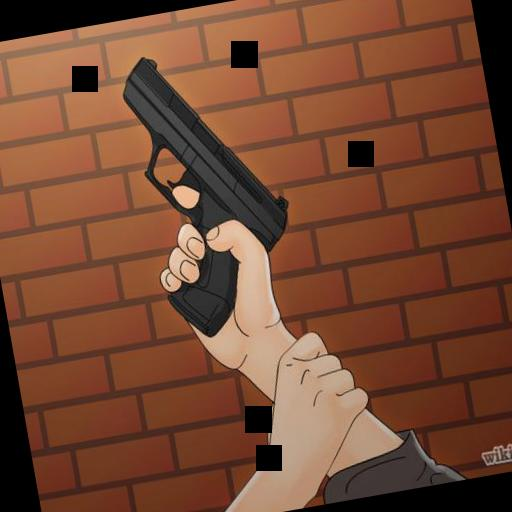Handgun: (106, 34, 313, 352)
